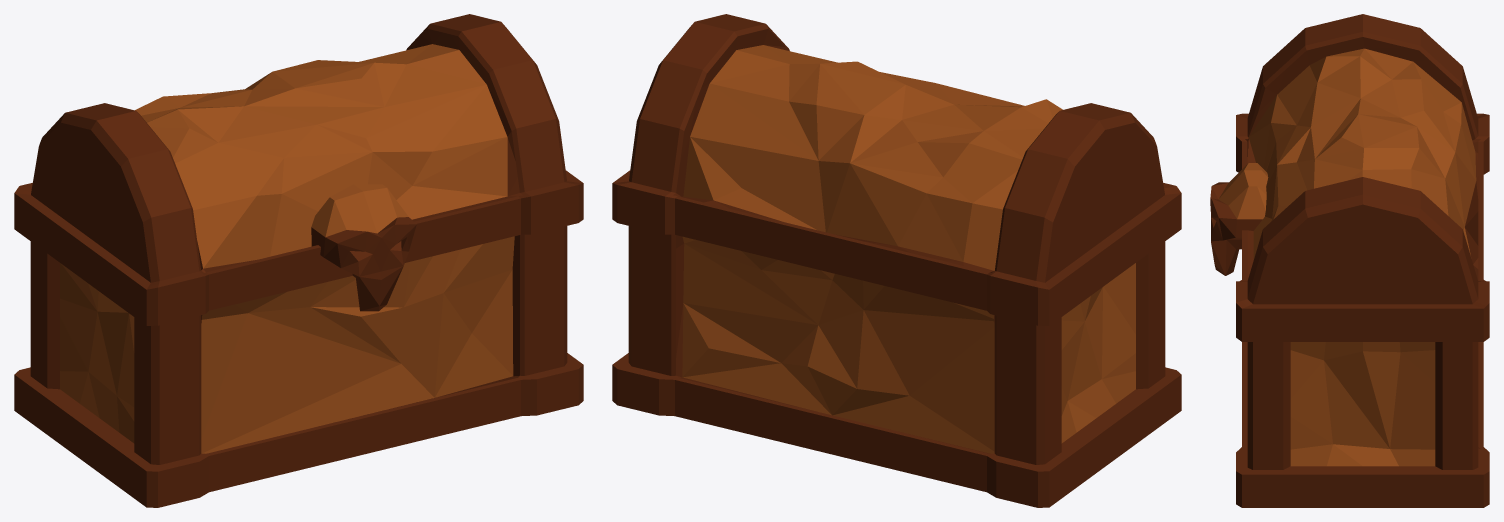
The model's file is Chest.fbx.
3 views of the same model, side by side, from view 1: azimuth 30°, elevation 25°; view 2: azimuth 150°, elevation 25°; view 3: azimuth 270°, elevation 25° (orthographic). The views are drawn at different scales.
Visible parts, largest first — view 1: Chest; view 2: Chest; view 3: Chest.
Boxes of the visible parts, x1,y1,x2,y2 form: Chest: [14, 14, 583, 507]; Chest: [612, 14, 1181, 507]; Chest: [1210, 14, 1489, 507].
Bounding box in the file's own units: 420 × 307 × 254.
